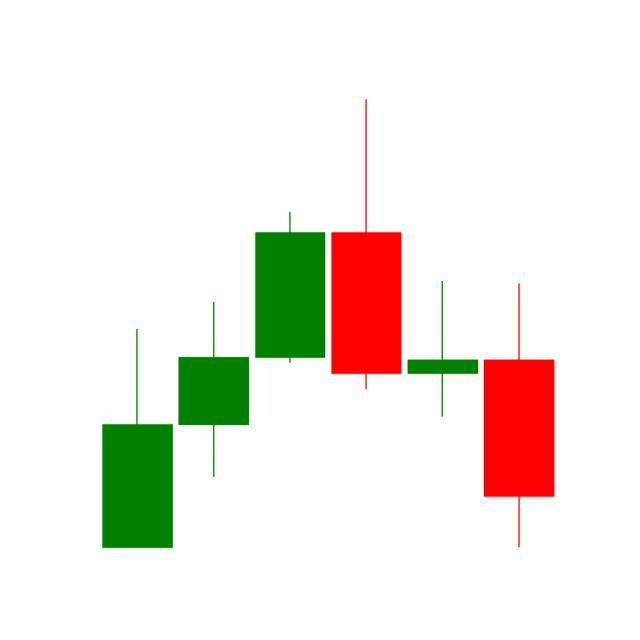Spinning Top: (404, 280, 482, 420)
